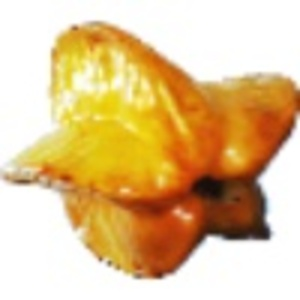carambola: (1, 20, 300, 282)
